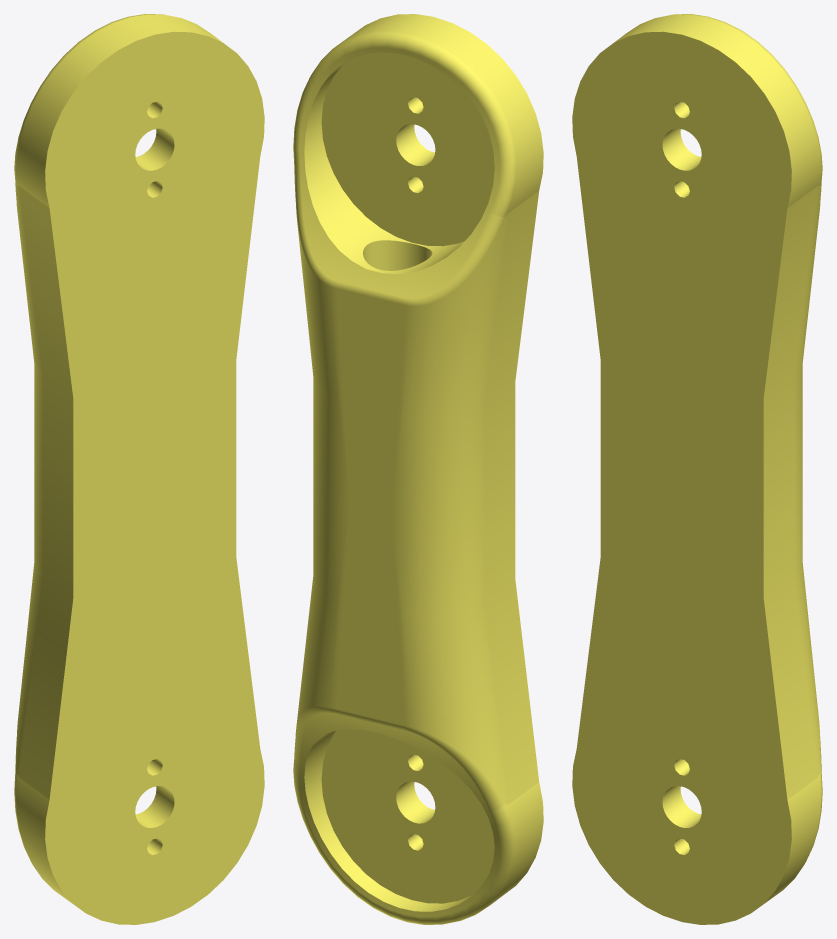
The picture shows the model from 3 angles, left to right: view 1: azimuth 30°, elevation 25°; view 2: azimuth 150°, elevation 25°; view 3: azimuth 330°, elevation 25°; orthographic projection.
Parts seen in each view (by area): view 1: Part3; view 2: Part3; view 3: Part3.
Part boxes in pixels (<box>): Part3: <box>14,14,264,924</box>; Part3: <box>293,14,543,924</box>; Part3: <box>572,14,822,924</box>.
Bounding box in the file's own units: 0.042 × 0.162 × 0.021.
